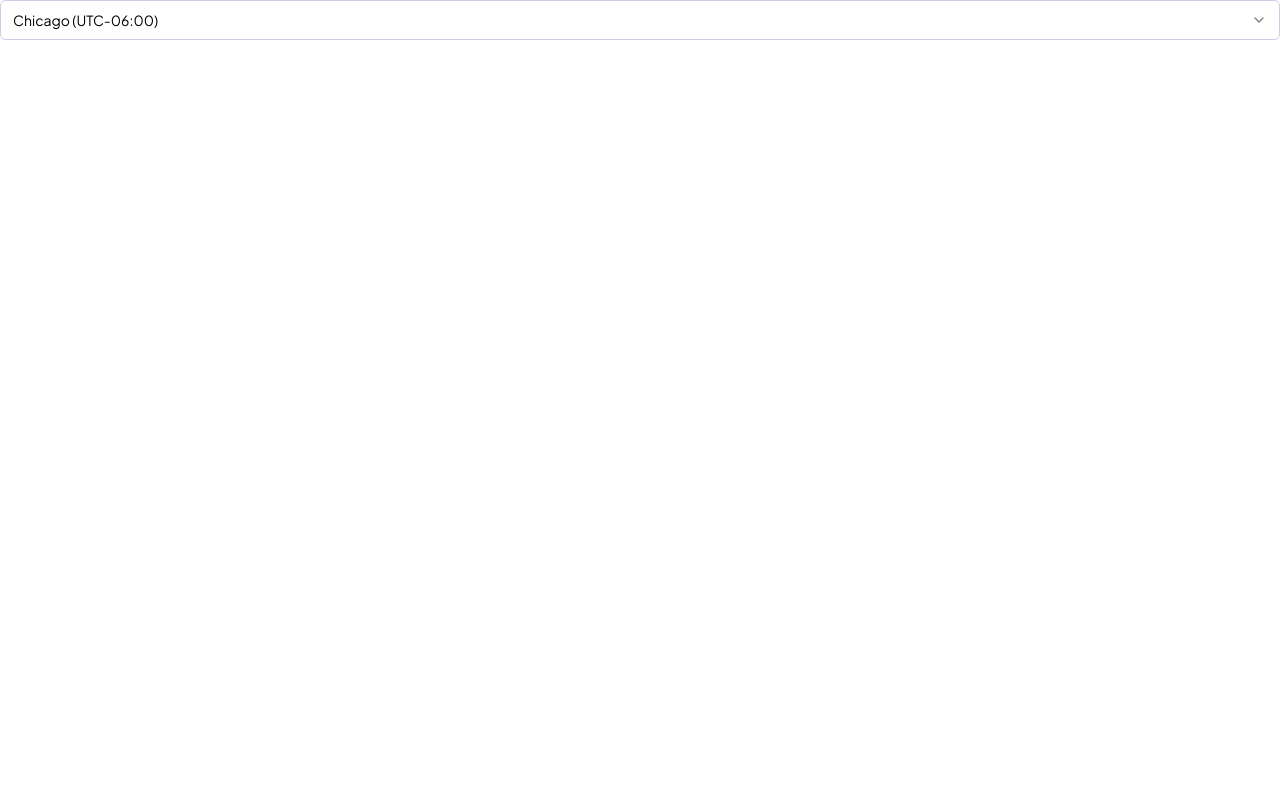
Test: TimezoneSelect › lists suggested zones first under "Suggested"
Step 1. Click the dropdown named "Send timezone" → (86, 20), box [0,0,1279,40]
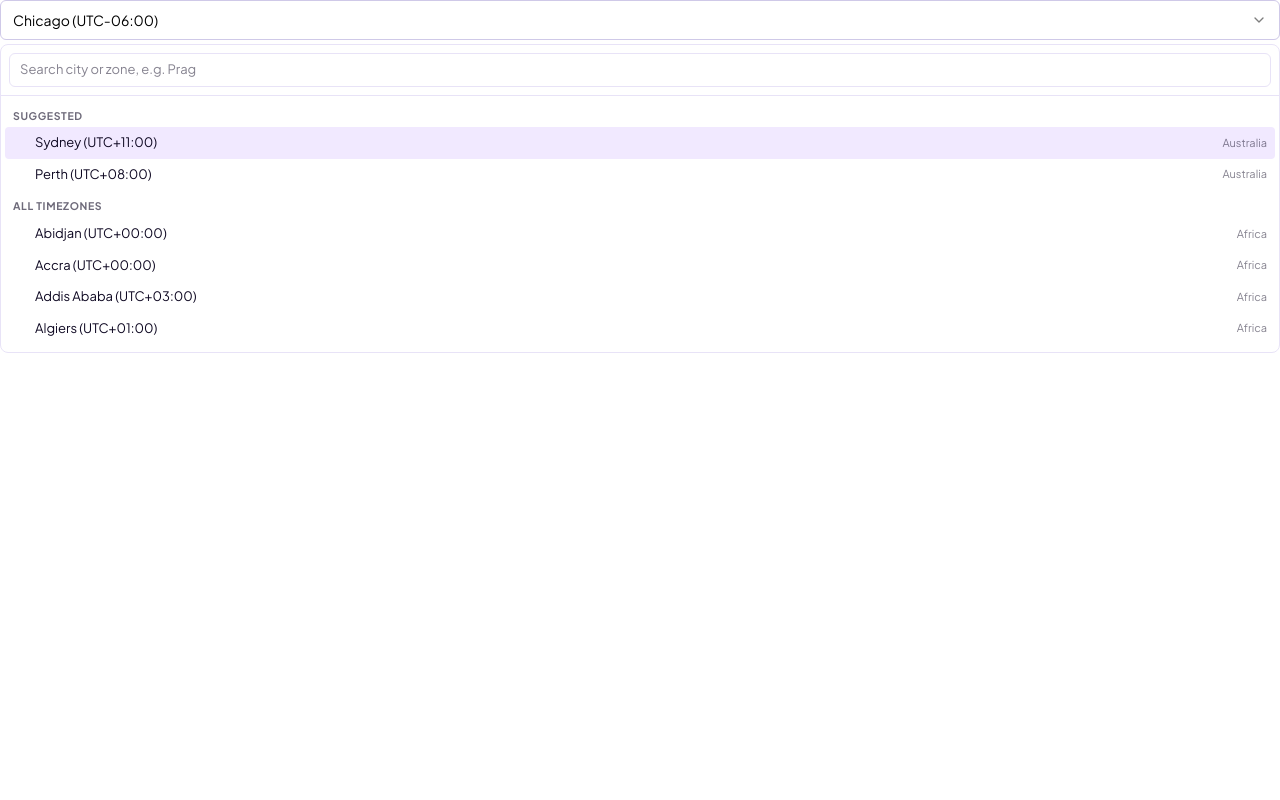
Result: the text "Suggested" is shown at [13,108,83,122]
Result: the option "Sydney (UTC+11:00) Australia" is shown at [5,127,1275,159]
Result: the option "Perth (UTC+08:00) Australia" is shown at [5,159,1275,190]
